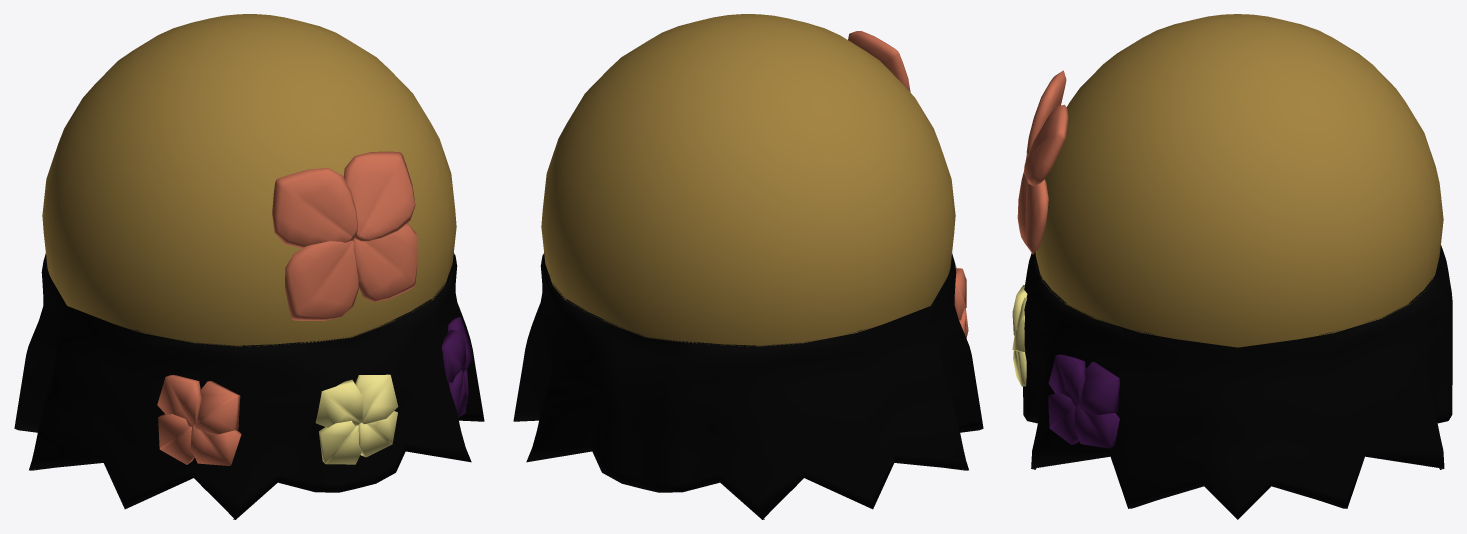
File: FlorLowPoly (1).fbx
3 views of the same model, side by side, from view 1: azimuth 30°, elevation 25°; view 2: azimuth 150°, elevation 25°; view 3: azimuth 270°, elevation 25° (orthographic).
Parts seen in each view (by area): view 1: Sphere.002; view 2: Sphere.002; view 3: Sphere.002.
Boxes of the visible parts, x1,y1,x2,y2 form: Sphere.002: (14,14,484,519); Sphere.002: (513,14,983,519); Sphere.002: (1012,14,1452,519).
Size of the model in its own units: 246 by 209 by 214.
